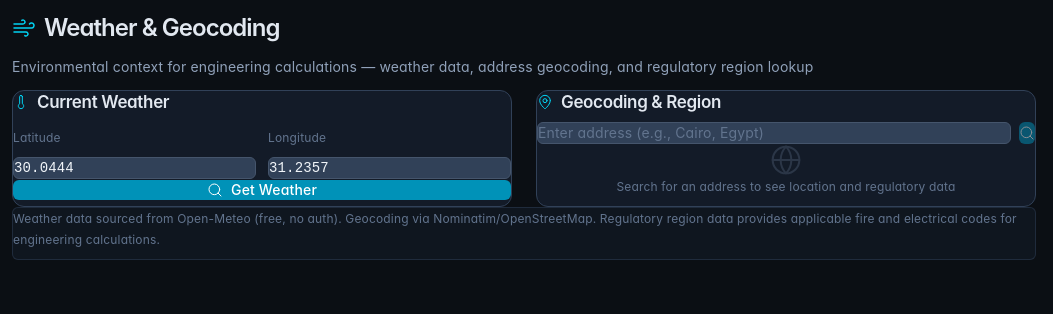
Test: ContextPage › shows error message when weather fetch fails
Click the button "Get Weather" at (262, 190), box [13,180,511,200]
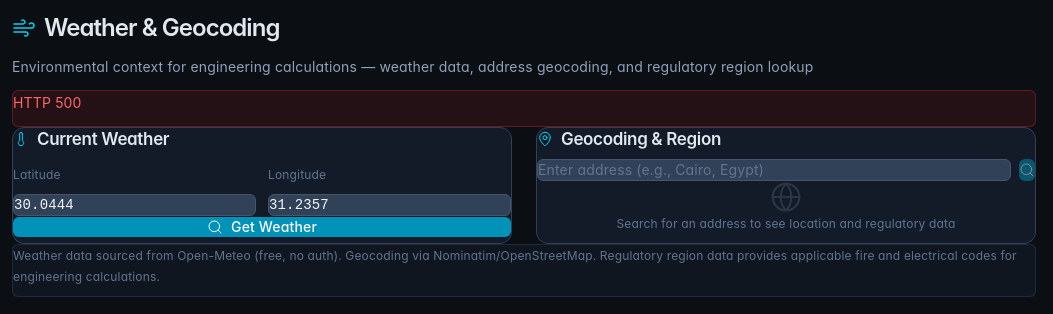
Expected: the text "HTTP 500" is shown, [13,94,82,111]
